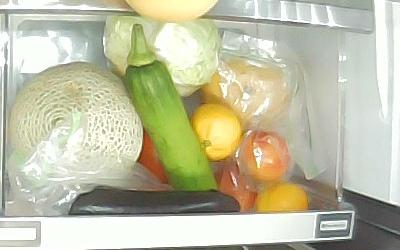cabbage: (9, 62, 143, 187)
carrot: (102, 14, 219, 98)
eggplant: (67, 185, 240, 215)
pear_vinyl: (197, 58, 291, 132)
prune_vinyl: (240, 130, 291, 181), (215, 163, 256, 213)
tangerine: (189, 103, 242, 161), (255, 182, 308, 211)
tomato: (134, 125, 168, 184)
zucchini: (123, 22, 218, 190)
